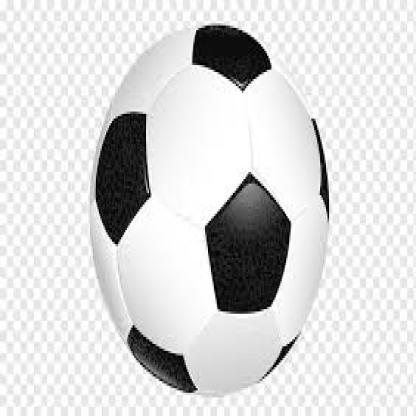ball: (89, 22, 330, 398)
